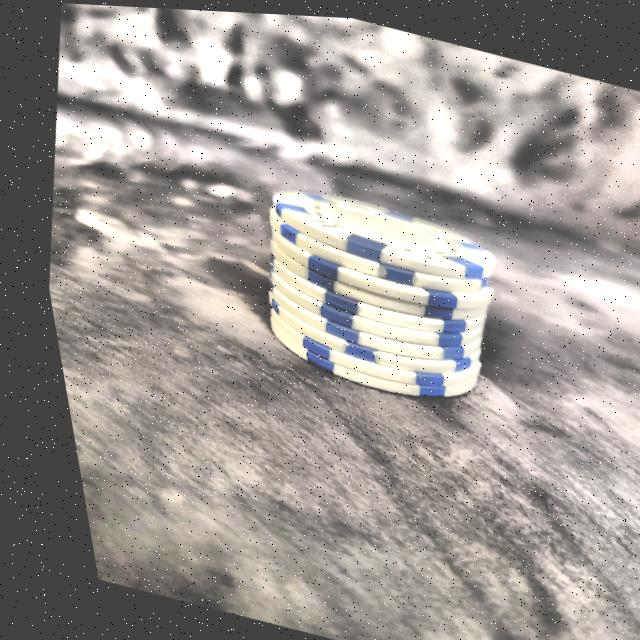Chip: (212, 145, 529, 434)
